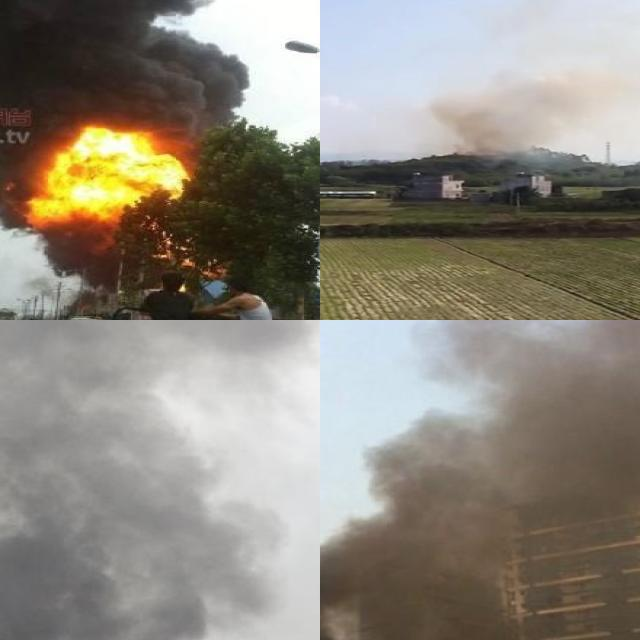fire: (26, 124, 192, 222)
smoke: (0, 320, 320, 640), (0, 0, 249, 278), (415, 0, 640, 153), (361, 520, 504, 640), (360, 413, 491, 519), (409, 320, 565, 391), (320, 520, 400, 640)
